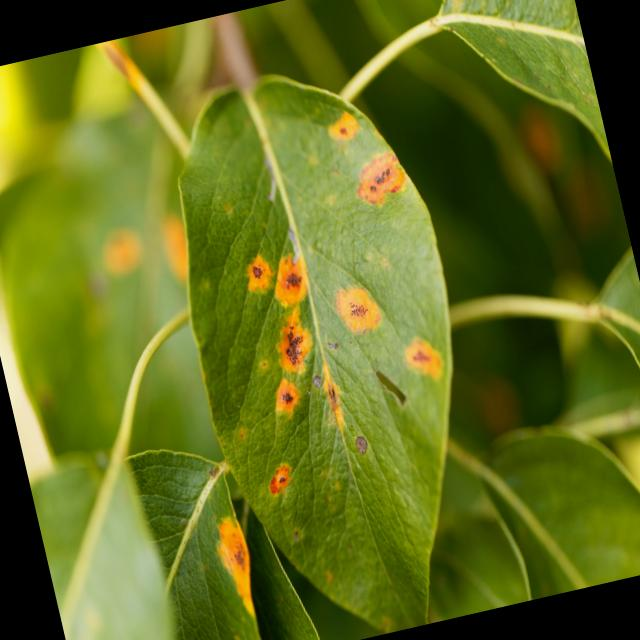leaf_rust: (179, 76, 451, 630)
